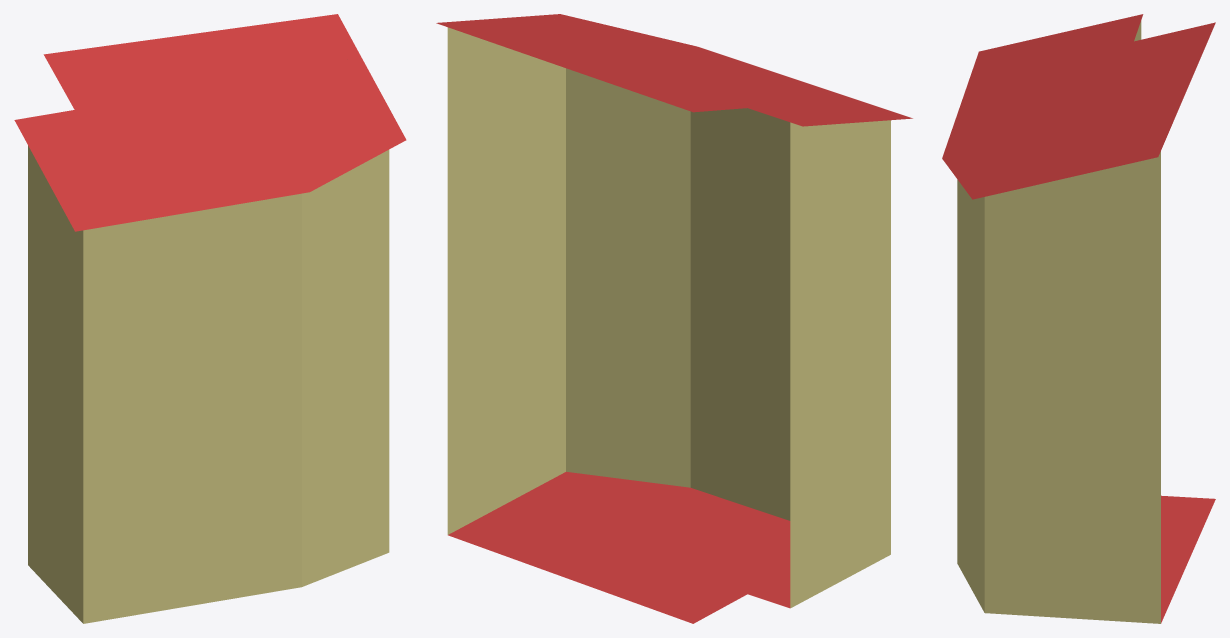
3 renders of one model, left to right at view 1: azimuth 30°, elevation 25°; view 2: azimuth 150°, elevation 25°; view 3: azimuth 270°, elevation 25°, orthographic. The views are drawn at different scales.
Size of the model in its own units: 6.9 by 4.6 by 8.83.
